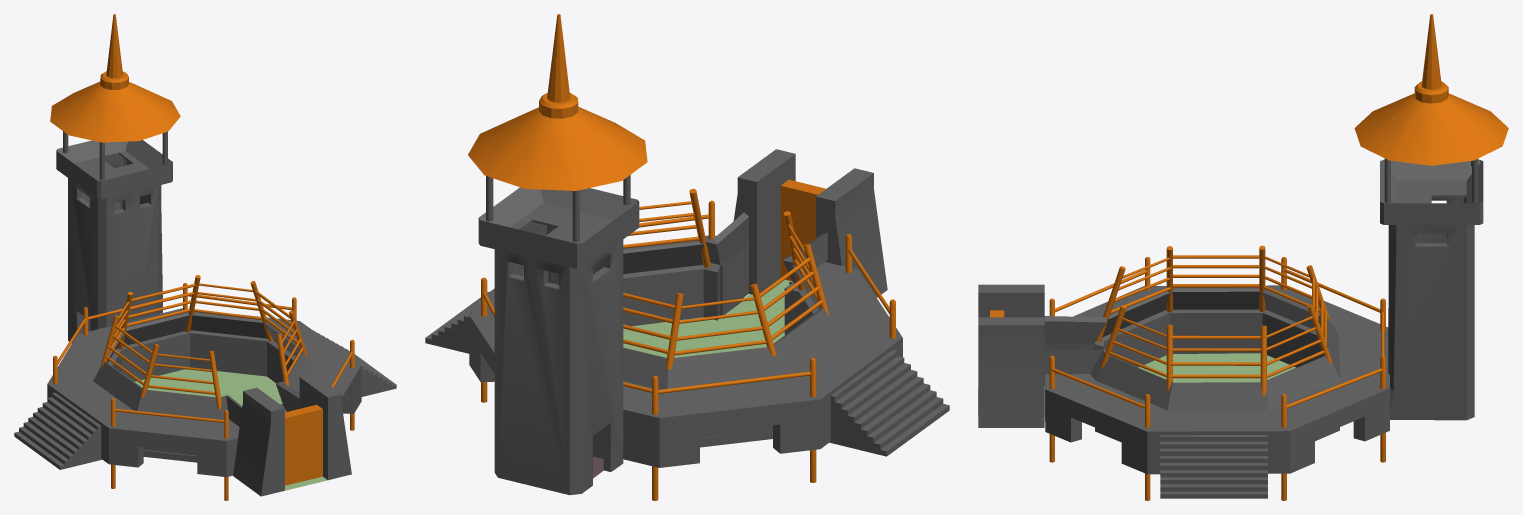
Rendered from PRISAO LODDD11.fbx.
3 views of the same model, side by side, from view 1: azimuth 30°, elevation 25°; view 2: azimuth 150°, elevation 25°; view 3: azimuth 270°, elevation 25° (orthographic). The views are drawn at different scales.
Parts seen in each view (by area): view 1: PRISAO_LOD0; view 2: PRISAO_LOD0; view 3: PRISAO_LOD0.
Part boxes in pixels (bbox=[...]): PRISAO_LOD0: bbox=[14, 14, 396, 500]; PRISAO_LOD0: bbox=[425, 14, 949, 500]; PRISAO_LOD0: bbox=[978, 14, 1508, 500].
Size of what is drawn, in the model's own units: 4737 by 4788 by 5509.
